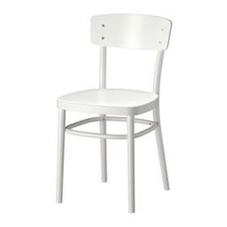chair: (19, 7, 200, 219)
